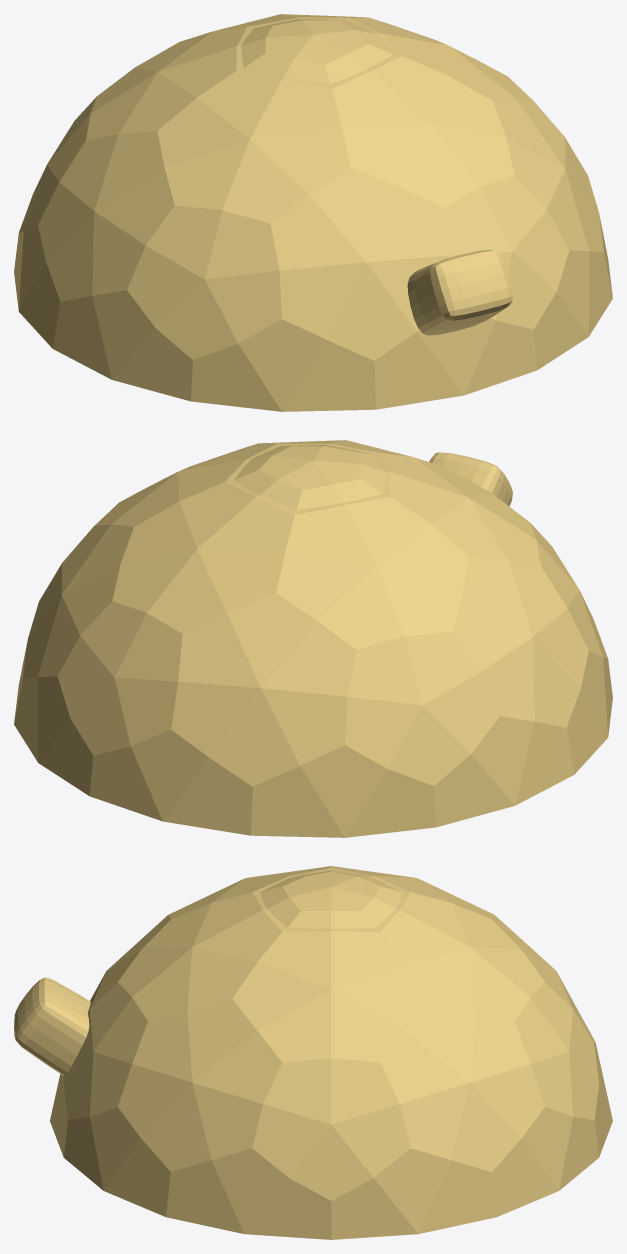
Rendered from armor_elbow.glb.
The picture shows the model from 3 angles, top to bottom: view 1: azimuth 30°, elevation 25°; view 2: azimuth 150°, elevation 25°; view 3: azimuth 270°, elevation 25°; orthographic projection. The views are drawn at different scales.
Visible parts, largest first — view 1: elbow; view 2: elbow; view 3: elbow.
Part boxes in pixels (left/top/right/bottom): elbow: left=14, top=14, right=612, bottom=411; elbow: left=14, top=440, right=612, bottom=837; elbow: left=14, top=866, right=612, bottom=1239.
Size of the model in its own units: 0.131 by 0.0662 by 0.1394.
